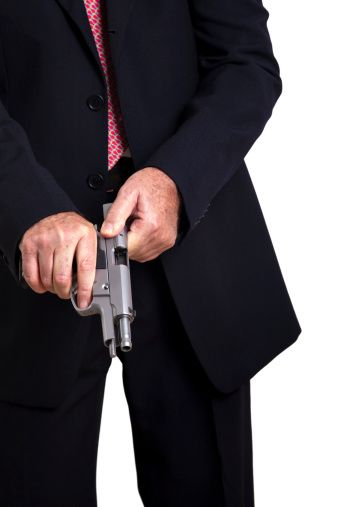gun: (59, 220, 139, 370)
